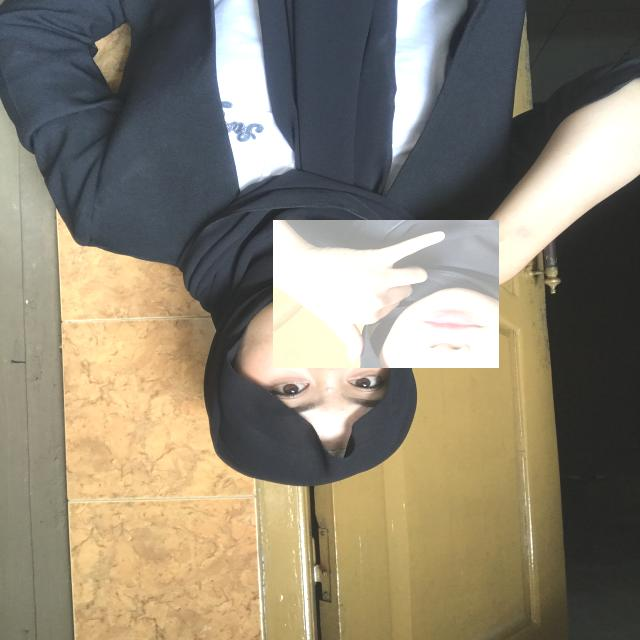telpon: (273, 220, 499, 368)
